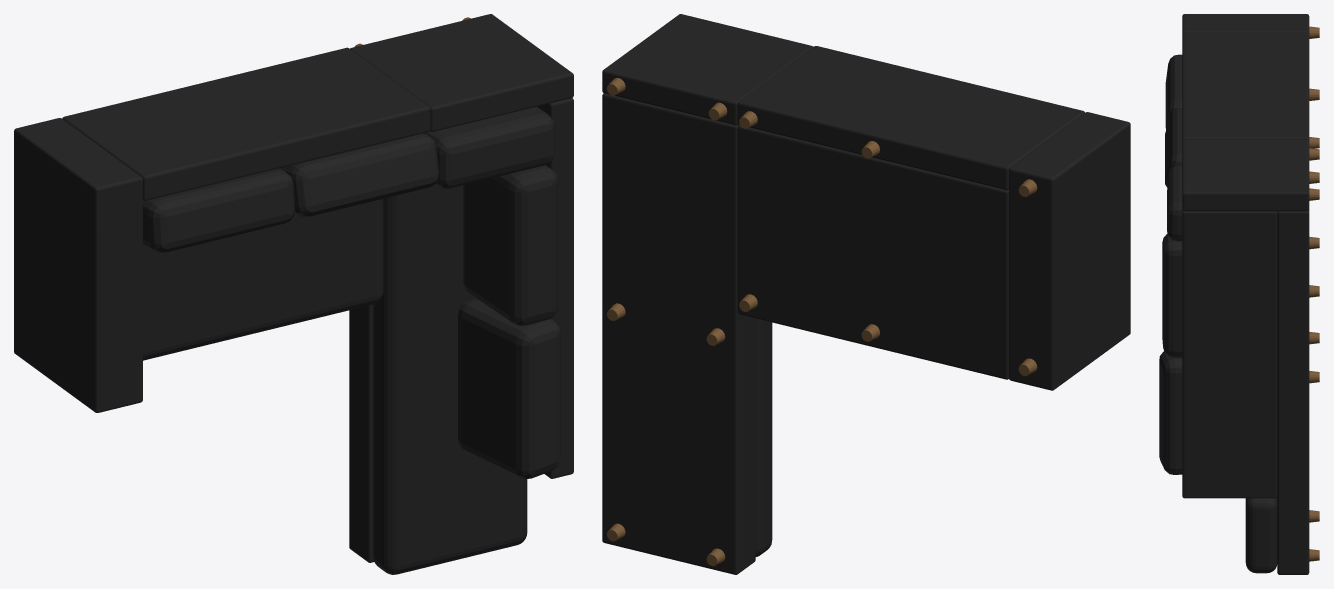
The picture shows the model from 3 angles, left to right: view 1: azimuth 30°, elevation 25°; view 2: azimuth 150°, elevation 25°; view 3: azimuth 270°, elevation 25°; orthographic projection. The views are drawn at different scales.
Visible parts, largest first — view 1: couch; view 2: couch; view 3: couch.
Part boxes in pixels (x1=…): couch: x1=14, y1=14, x2=573, y2=574; couch: x1=602, y1=14, x2=1130, y2=574; couch: x1=1159, y1=14, x2=1319, y2=574.
Size of the model in its own units: 78.69 by 79.25 by 29.9.
